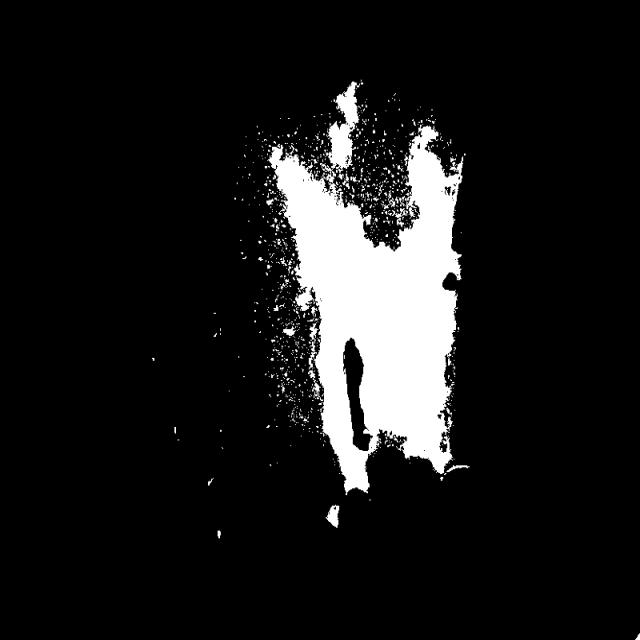fire: (215, 99, 508, 532)
